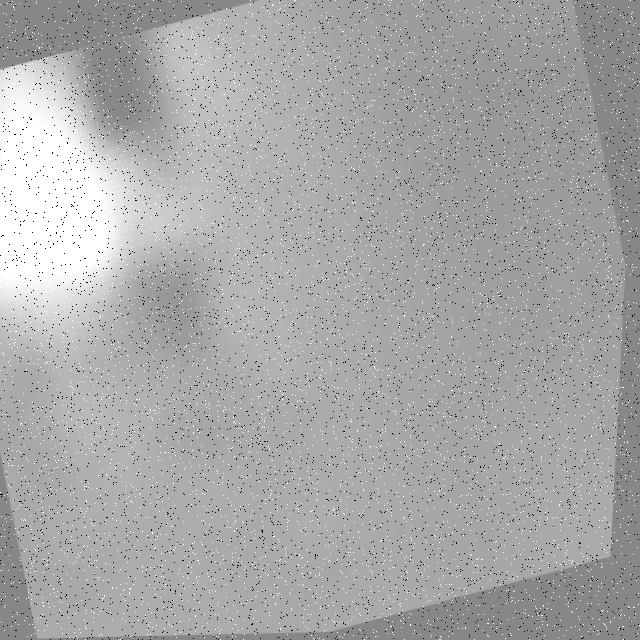person: (1, 36, 224, 500)
